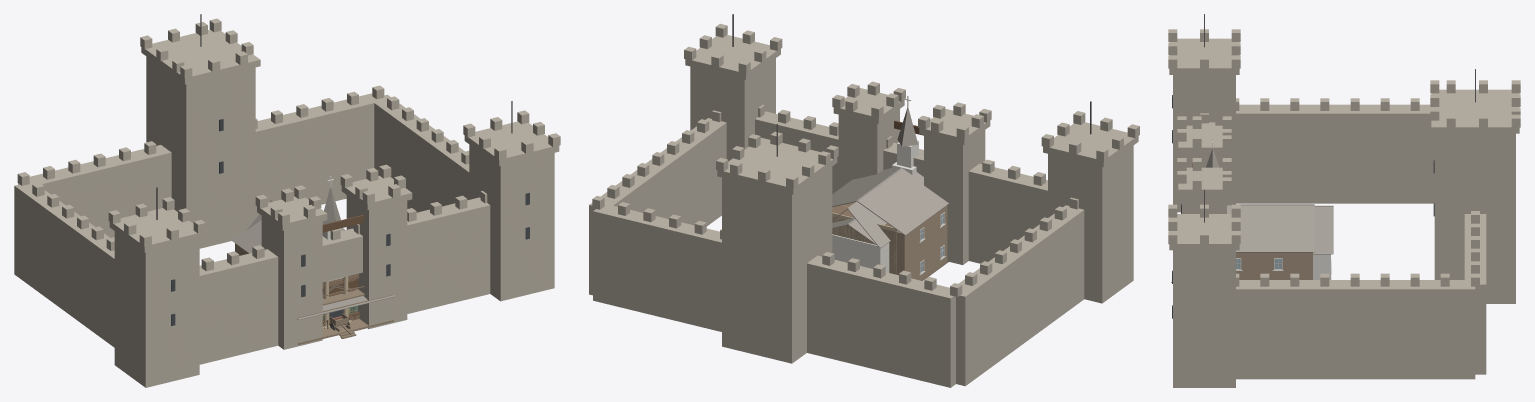
Rendered from town_kit2.glb.
3 renders of one model, left to right at view 1: azimuth 30°, elevation 25°; view 2: azimuth 150°, elevation 25°; view 3: azimuth 270°, elevation 25°, orthographic.
Visible parts, largest first — view 1: FortKnox_geo, Bldg_Saloon_geo, Bldg_A_geo, Bldg_Armory_geo, Church_geo, Bldg_C_geo; view 2: FortKnox_geo, Bldg_Saloon_geo, Church_geo, Bldg_Treasury_geo; view 3: FortKnox_geo, Bldg_Saloon_geo, Church_geo.
Part boxes in pixels (box(x1,y1,x2,y2)): FortKnox_geo: box(14, 14, 560, 387); Bldg_Saloon_geo: box(232, 220, 395, 344); Bldg_A_geo: box(317, 279, 376, 338); Bldg_Armory_geo: box(313, 296, 379, 340); Church_geo: box(246, 176, 343, 281); Bldg_C_geo: box(321, 275, 371, 337); FortKnox_geo: box(589, 14, 1139, 387); Bldg_Saloon_geo: box(832, 167, 948, 280); Church_geo: box(832, 95, 918, 272); Bldg_Treasury_geo: box(832, 201, 898, 274); FortKnox_geo: box(1168, 14, 1520, 387); Bldg_Saloon_geo: box(1227, 204, 1314, 279); Church_geo: box(1206, 137, 1333, 279).
Size of the model in its own units: 54 by 26.8 by 39.
